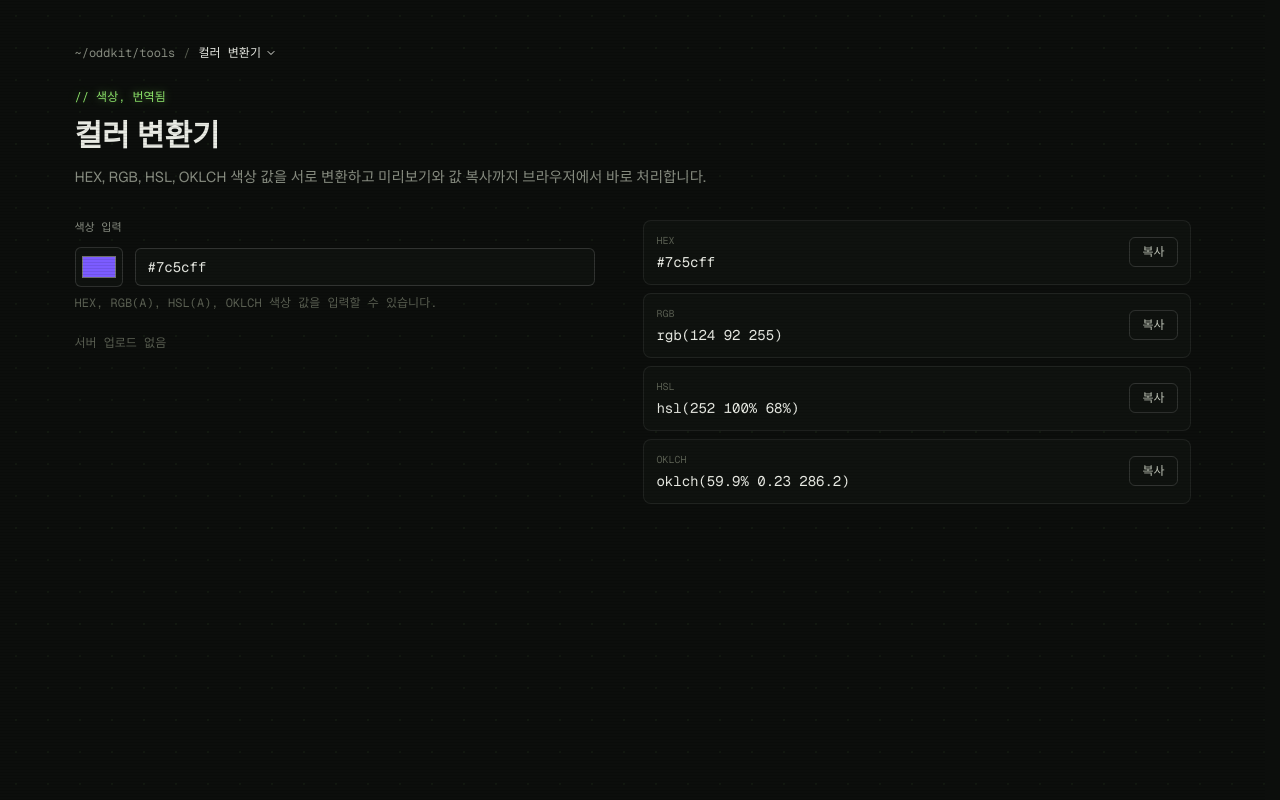
Test: ColorConverterTool › 잘못된 입력: 파싱할 수 없는 값은 오류 메시지를 보여주고 앱이 멈추지 않는다
This screenshot has width=1280, height=800.
Check: the heading "컬러 변환기" is shown, box x1=74 y1=116 x2=220 y2=155
Replace the text in the field named "색상 입력" with "not-a-color" at (365, 268), box x1=134 y1=248 x2=596 y2=286
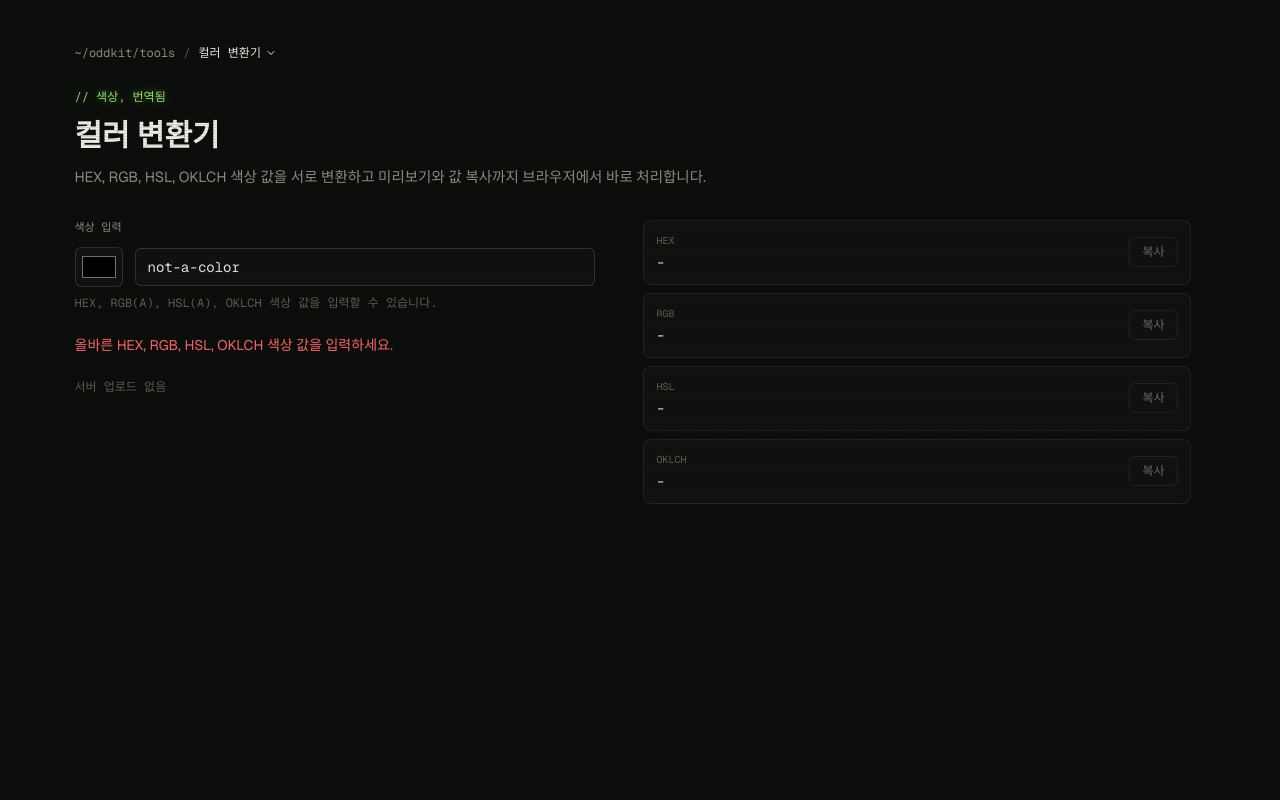
Check: the heading "컬러 변환기" is shown, box x1=74 y1=116 x2=220 y2=155
Check: the text "올바른 HEX, RGB, HSL, OKLCH 색상 값을 입력하세요." is shown, box x1=74 y1=336 x2=393 y2=354
